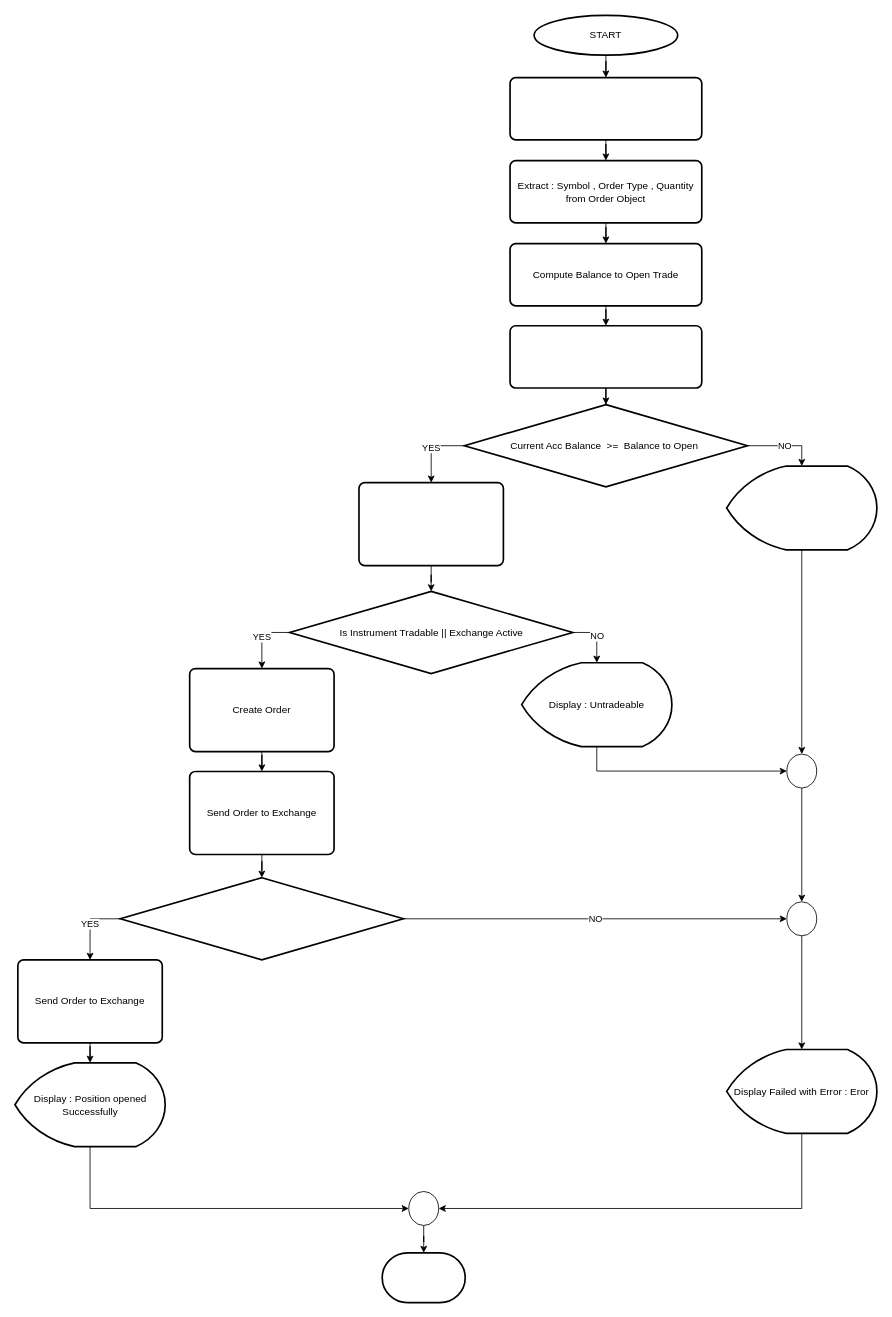
This 892x1317 diagram has some shape labels left out. The centre of each missing label's shape, as x and y in pixels:
"Check if Exchange is active || Instrument is tradeable" belongs at point (431, 523).
"Display insufficient Balance" belongs at point (801, 507).
"END" belongs at point (423, 1277).
"is Position Opened?" belongs at point (261, 918).
"Prompt User to Create New Order" belongs at point (605, 108).
"Read Current Account Balance" belongs at point (605, 356).
